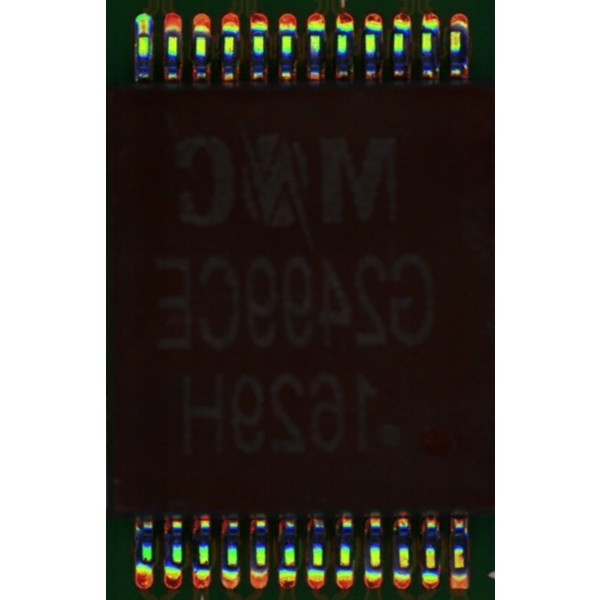Bad_podu: (138, 23, 147, 40)
